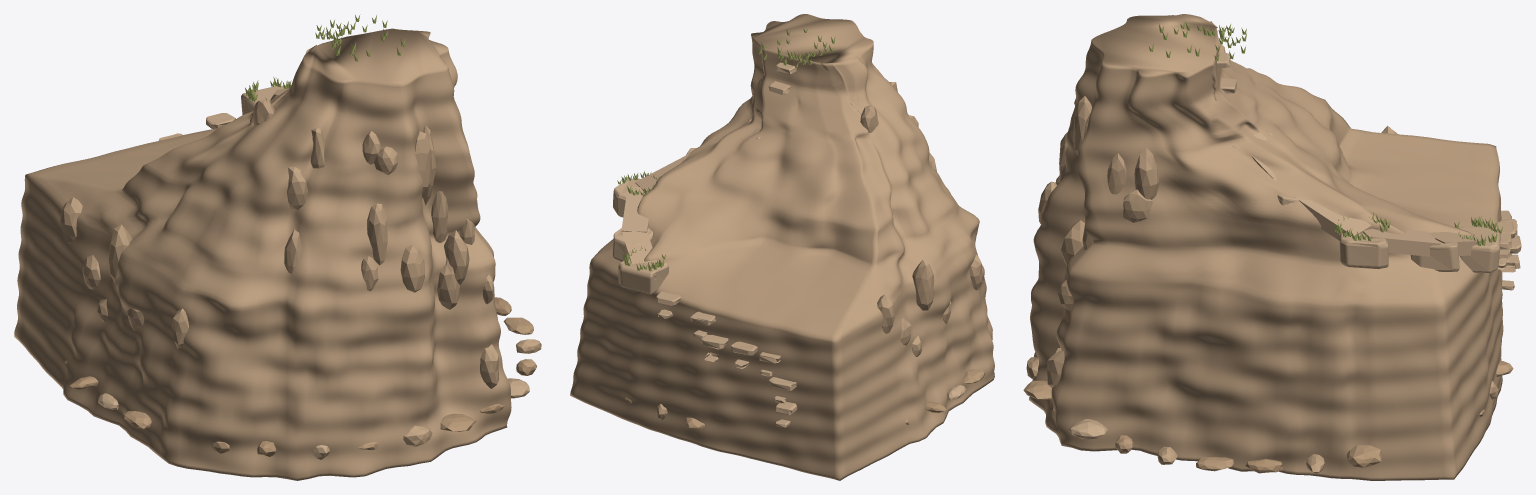
Rendered from water-mountain.glb.
3 views of the same model, side by side, from view 1: azimuth 30°, elevation 25°; view 2: azimuth 150°, elevation 25°; view 3: azimuth 270°, elevation 25° (orthographic). The views are drawn at different scales.
Parts seen in each view (by area): view 1: V05 sandstone mineral 2 2, V05 sandstone mineral 4 0, V05 sandstone mineral 1 4, Sandstone grass tips 1, V05 sandstone mineral 0 3, V05 sandstone mineral 3 5; view 2: V05 sandstone mineral 2 2, V05 sandstone mineral 4 0, Sandstone grass tips 1; view 3: V05 sandstone mineral 2 2, V05 sandstone mineral 4 0, V05 sandstone mineral 1 4, Sandstone grass tips 1.
Part boxes in pixels (x1=…): V05 sandstone mineral 2 2: x1=14, y1=28, x2=541, y2=480; V05 sandstone mineral 4 0: x1=98, y1=85, x2=529, y2=459; V05 sandstone mineral 1 4: x1=64, y1=317, x2=533, y2=453; Sandstone grass tips 1: x1=245, y1=14, x2=405, y2=101; V05 sandstone mineral 0 3: x1=70, y1=297, x2=511, y2=456; V05 sandstone mineral 3 5: x1=122, y1=359, x2=536, y2=449; V05 sandstone mineral 2 2: x1=570, y1=14, x2=994, y2=480; V05 sandstone mineral 4 0: x1=612, y1=62, x2=965, y2=427; Sandstone grass tips 1: x1=617, y1=28, x2=835, y2=271; V05 sandstone mineral 2 2: x1=1026, y1=14, x2=1503, y2=480; V05 sandstone mineral 4 0: x1=1068, y1=52, x2=1521, y2=439; V05 sandstone mineral 1 4: x1=1023, y1=360, x2=1513, y2=471; Sandstone grass tips 1: x1=1149, y1=20, x2=1502, y2=245.
Bounding box in the file's own units: 15.11 × 12.64 × 15.35.
